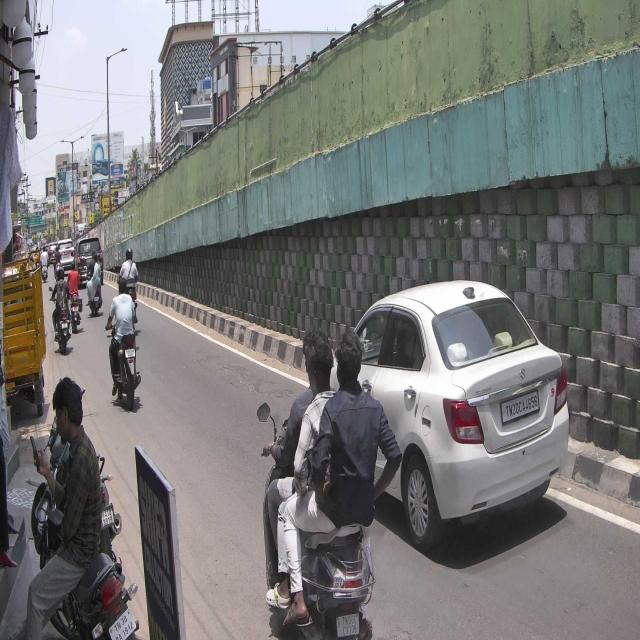triple_rider: (255, 325, 402, 640)
